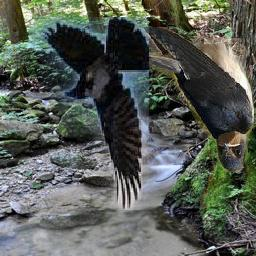Crow: (29, 18, 149, 211)
Swallow: (128, 28, 254, 173)
